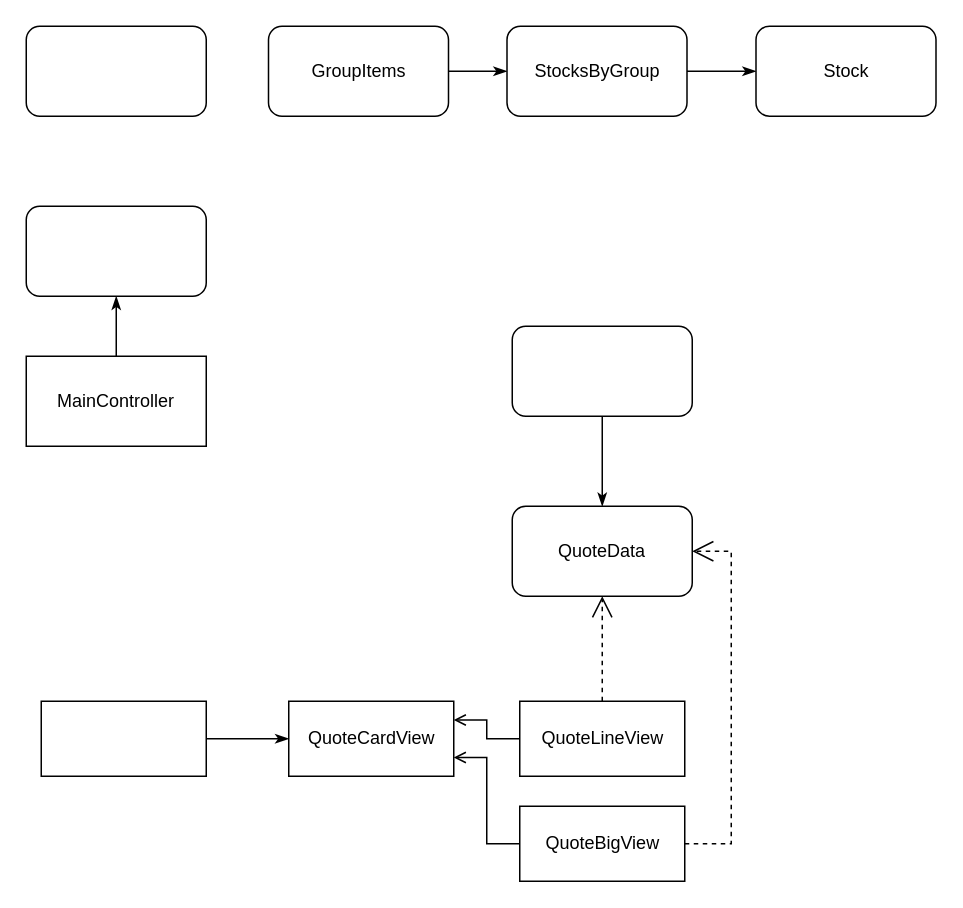
Image size: 963x908. Some labels were removed from this diagram. Here are the shapes that lost their labels. From the top down, the centre of each, then its label:
At (x=115, y=70): "Groups".
At (x=115, y=250): "MyStocks (HTTP request)".
At (x=601, y=370): "RequestQuote (HTTP request)".
At (x=123, y=738): "GroupTableViewCell".
